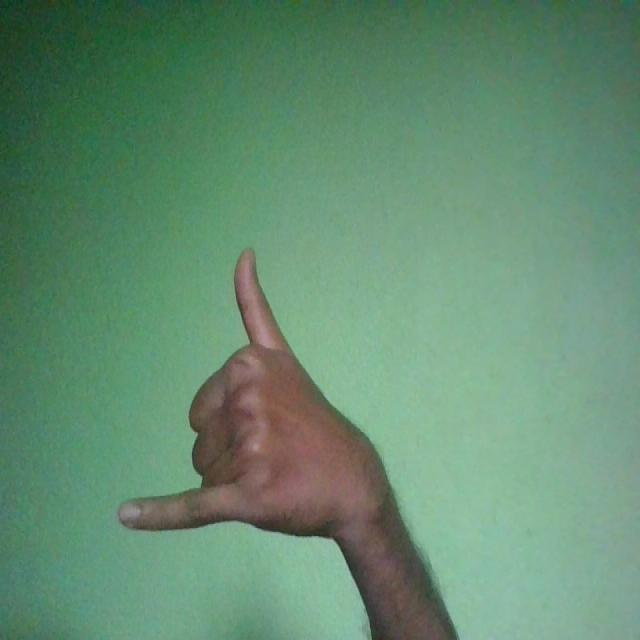Call Me: (119, 243, 400, 540)
